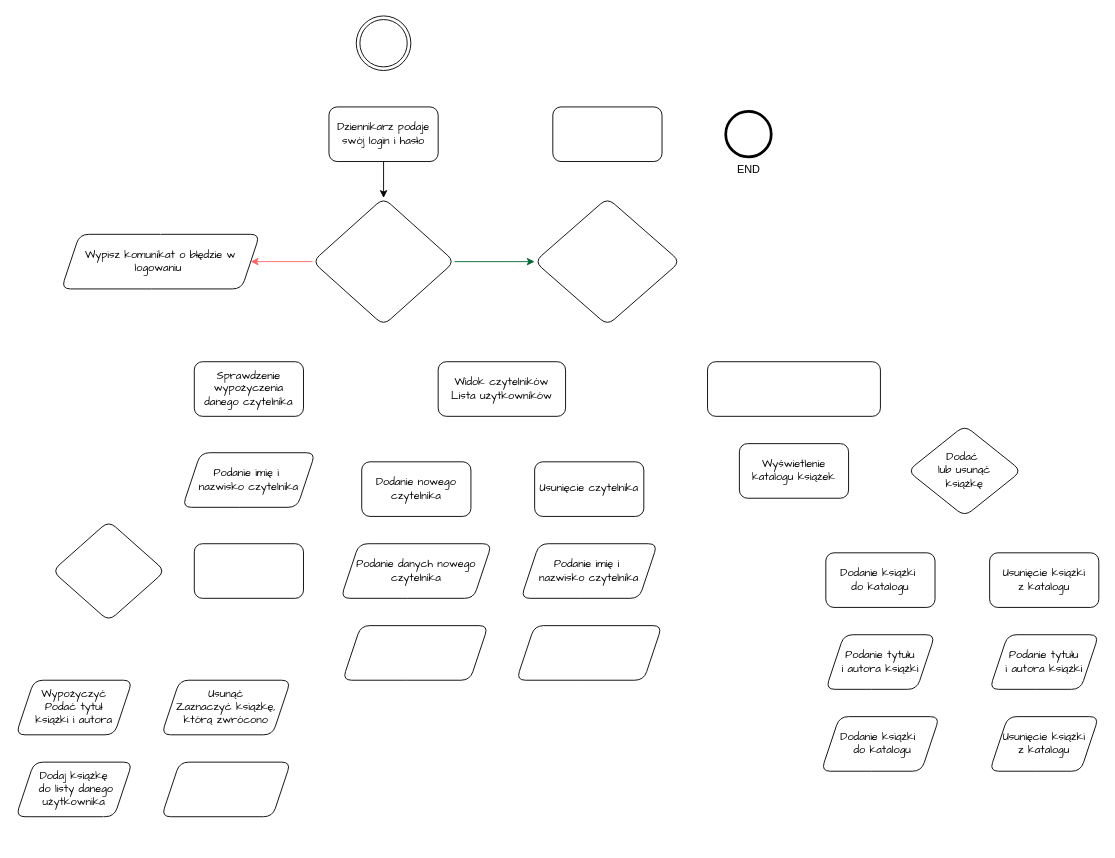
The diagram is 1115 pixels wide and 858 high, and some of its shapes have lost their labels. The shapes that lost their labels are listed below. From the top down, each one's centre as x and y in pixels, then its label:
At [383,43]: "START".
At [607,134]: "Wylogowanie z programu".
At [383,261]: "Czy login i hasło jest prawidłowe".
At [607,261]: "Widok główny".
At [793,388]: "Przeglądanie katalogu książek".
At [108,570]: "Wypożyczyć lub usunąć książkę".
At [248,570]: "Wyświetlenie wypożyczonych książek".
At [415,652]: "Dodanie nowego użytkownika do bazy".
At [589,652]: "Usunięcie danego użytkownika z bazy".
At [226,789]: "Usuń daną książkę z listy wypożyczeń".
